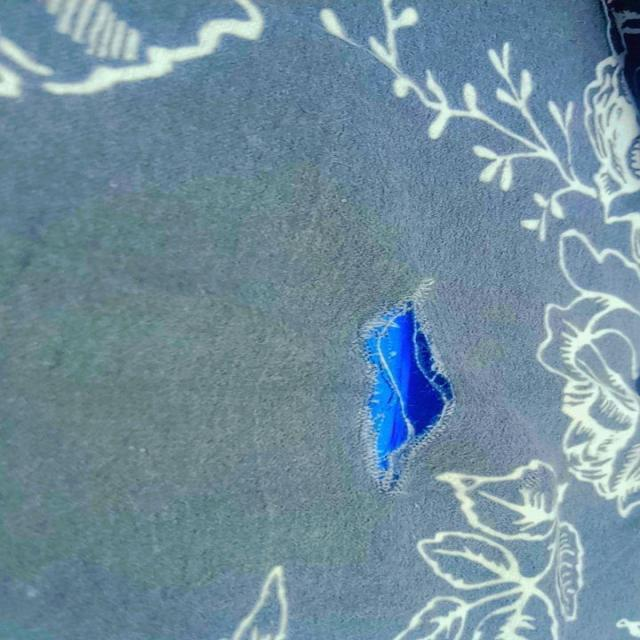cut: (350, 272, 460, 499)
